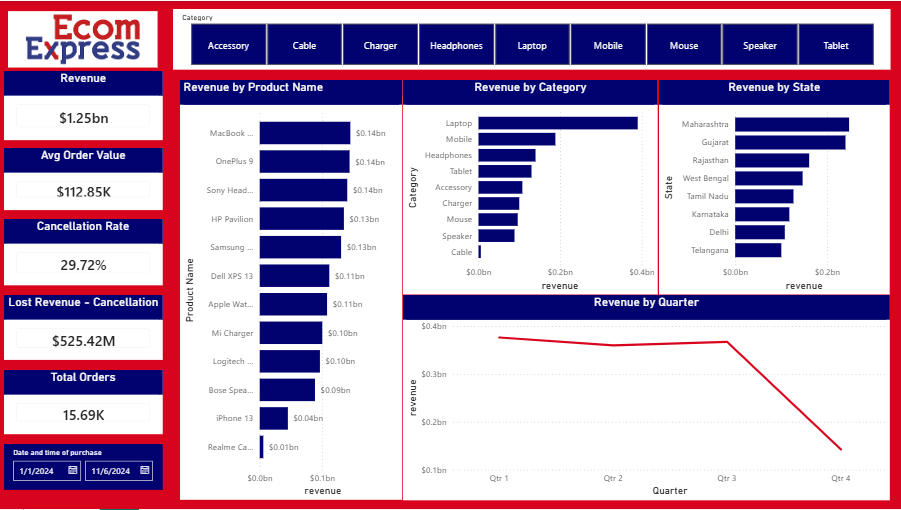

What the dashboard file says about the page in this screenshot:
{"tool":"powerbi","page":{"name":"Page 1","canvas":[1280,720],"ordinal":0},"visuals":[{"type":"shape","box":[0,99.4,246.2,607.7],"z":0},{"type":"shape","box":[0,0,1280,112.5],"z":1000},{"type":"image","box":[13,11.5,211.7,86.4],"z":2000},{"type":"barChart","title":"Revenue by Product Name","fields":{"Y":["Table.revenue"],"Category":["products.Product Name"]},"box":[256.5,112,315.4,594.7],"z":3000},{"type":"barChart","title":"Revenue by Category","fields":{"Y":["Table.revenue"],"Category":["products.Category"]},"box":[572.6,112,361.4,303.8],"z":4000},{"type":"slicer","fields":{"Values":["products.Category"]},"box":[246.2,11.5,1016.6,86.4],"z":5000},{"type":"barChart","title":"Revenue by State","fields":{"Y":["Table.revenue"],"Category":["customers.State"]},"box":[935.4,112,326.9,303.8],"z":6000},{"type":"lineChart","title":"Revenue by Quarter","fields":{"Category":["orders.Date and time of purchase.Variation.Date Hierarchy.Year","orders.Date and time of purchase.Variation.Date Hierarchy.Quarter","orders.Date and time of purchase.Variation.Date Hierarchy.Month","orders.Date and time of purchase.Variation.Date Hierarchy.Day"],"Y":["Table.revenue"]},"box":[572.6,416.7,690.2,290.6],"z":7000},{"type":"cardVisual","title":"Revenue","fields":{"Data":["Table.revenue"]},"box":[7.2,99.4,224.6,97.9],"z":8000},{"type":"cardVisual","title":"Avg Order Value","fields":{"Data":["Table.AOV"]},"box":[7.2,208.8,224.6,87.8],"z":9000},{"type":"cardVisual","title":"Cancellation Rate","fields":{"Data":["Table.cancellation rate"]},"box":[7.2,309.6,224.6,93.6],"z":10000},{"type":"cardVisual","title":"Lost Revenue - Cancellation","fields":{"Data":["Table.lost_revenue_cancellation"]},"box":[7.2,416.2,224.6,92.2],"z":11000},{"type":"cardVisual","title":"Total Orders","fields":{"Data":["CountNonNull(orders.OrderID)"]},"box":[7.2,522.7,224.6,90.7],"z":12000},{"type":"slicer","fields":{"Values":["orders.Date and time of purchase"]},"box":[7.2,627.8,224.6,64.8],"z":13000}]}

Visuals, with their boxes in screenshot pixels (x1, y1, x2, y2), scaled from the page's 1280x720 canvas onto the 901x510 screenshot:
shape: (x1=0, y1=70, x2=173, y2=501)
shape: (x1=0, y1=0, x2=900, y2=80)
image: (x1=9, y1=8, x2=158, y2=69)
"Revenue by Product Name" barChart: (x1=181, y1=79, x2=403, y2=501)
"Revenue by Category" barChart: (x1=403, y1=79, x2=657, y2=295)
slicer - products.Category: (x1=173, y1=8, x2=889, y2=69)
"Revenue by State" barChart: (x1=658, y1=79, x2=889, y2=295)
"Revenue by Quarter" lineChart: (x1=403, y1=295, x2=889, y2=501)
"Revenue" cardVisual: (x1=5, y1=70, x2=163, y2=140)
"Avg Order Value" cardVisual: (x1=5, y1=148, x2=163, y2=210)
"Cancellation Rate" cardVisual: (x1=5, y1=219, x2=163, y2=286)
"Lost Revenue - Cancellation" cardVisual: (x1=5, y1=295, x2=163, y2=360)
"Total Orders" cardVisual: (x1=5, y1=370, x2=163, y2=434)
slicer - orders.Date and time of purchase: (x1=5, y1=445, x2=163, y2=491)
